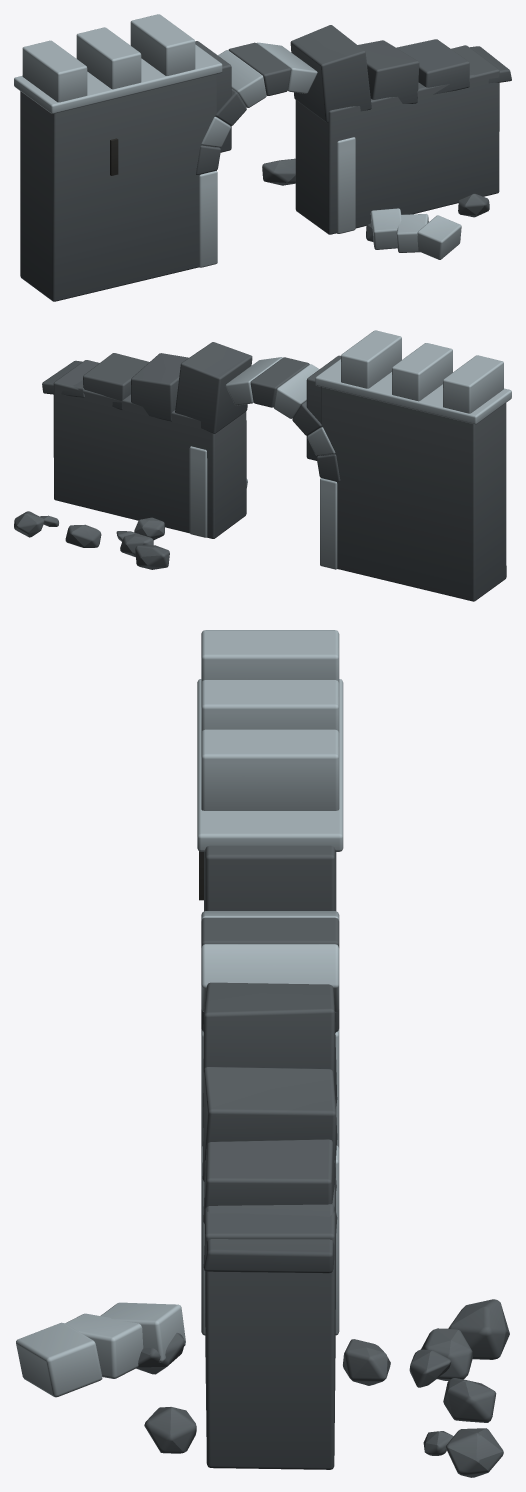
Rendered from fog_ruin_wall.glb.
The picture shows the model from 3 angles, top to bottom: view 1: azimuth 30°, elevation 25°; view 2: azimuth 150°, elevation 25°; view 3: azimuth 270°, elevation 25°; orthographic projection. The views are drawn at different scales.
Parts seen in each view (by area): view 1: fog_ruin_wall; view 2: fog_ruin_wall; view 3: fog_ruin_wall.
Part boxes in pixels (x1=…): fog_ruin_wall: x1=14, y1=14, x2=511, y2=301; fog_ruin_wall: x1=14, y1=330, x2=511, y2=601; fog_ruin_wall: x1=16, y1=630, x2=509, y2=1477.
Size of the model in its own units: 12.44 by 6.16 by 6.09.
1 material, 1 textured.
